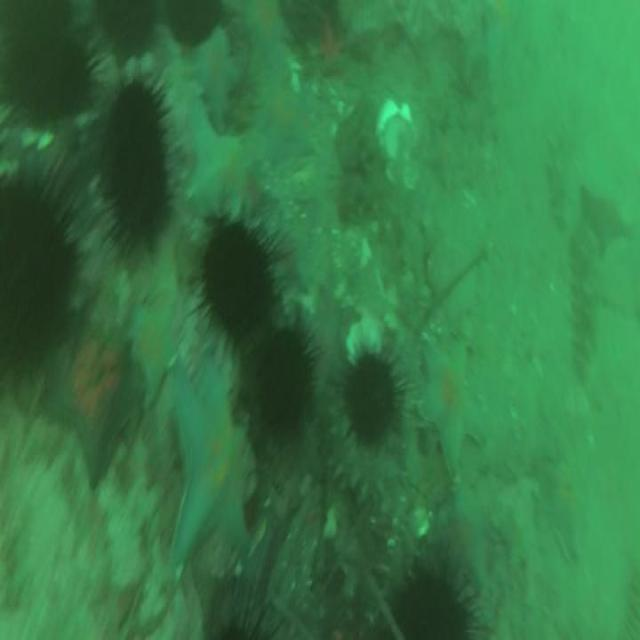echinus: (0, 186, 69, 382), (106, 85, 172, 245), (203, 218, 278, 341), (14, 22, 92, 127), (388, 573, 470, 640), (343, 352, 398, 444), (260, 328, 312, 418)
holothurian: (328, 414, 395, 501), (570, 220, 602, 378), (548, 112, 582, 232)
scallop: (21, 130, 39, 144), (37, 134, 55, 147)
starfish: (166, 363, 244, 577), (50, 322, 140, 480), (418, 336, 487, 464), (534, 448, 585, 568), (129, 296, 178, 408), (258, 80, 316, 168), (193, 30, 240, 130), (241, 0, 292, 54)
